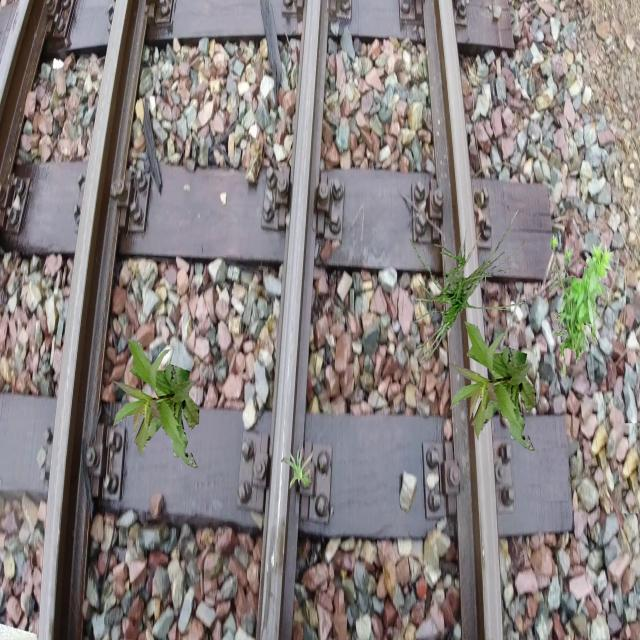Plant: (407, 209, 526, 372), (111, 339, 200, 469), (448, 321, 536, 451), (549, 233, 614, 376), (281, 444, 314, 490)
